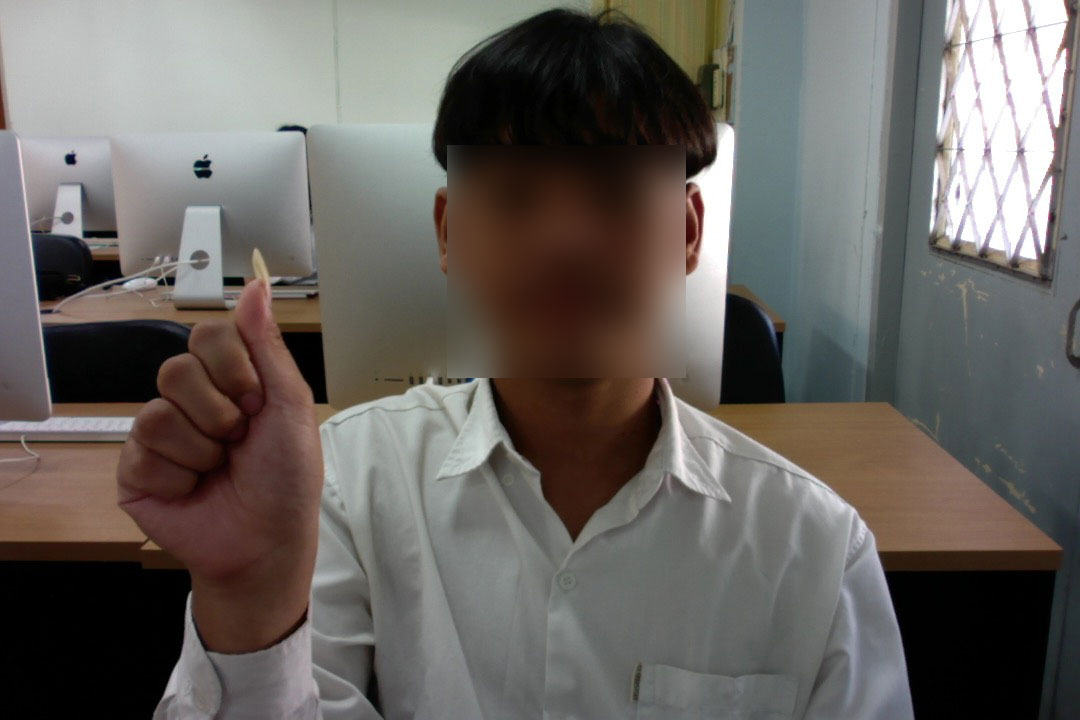or: (112, 243, 346, 625)
